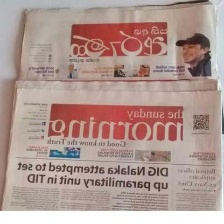news_paper: (0, 79, 223, 210), (9, 0, 222, 90)
